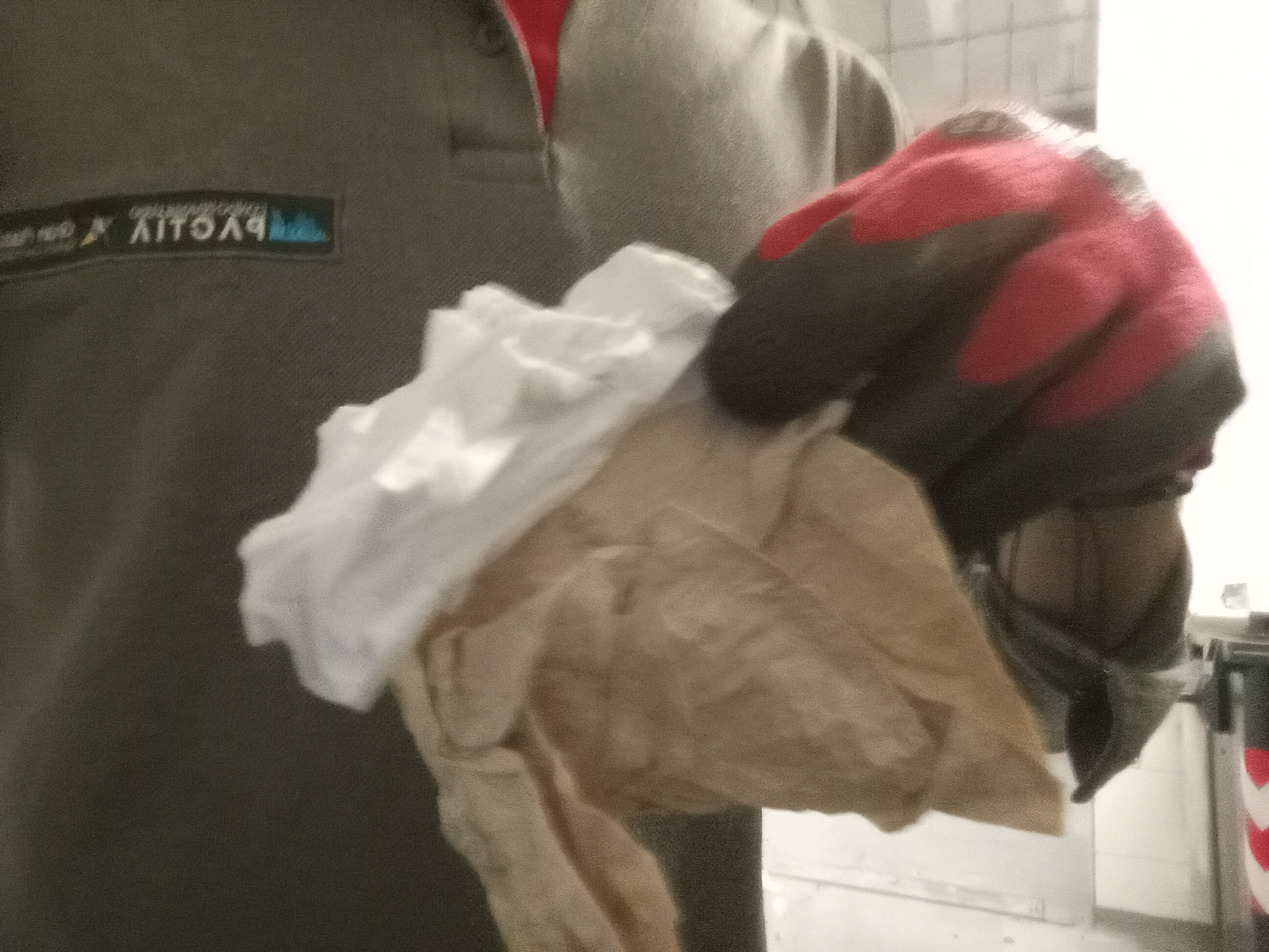Ordinario: (234, 239, 1065, 952)
